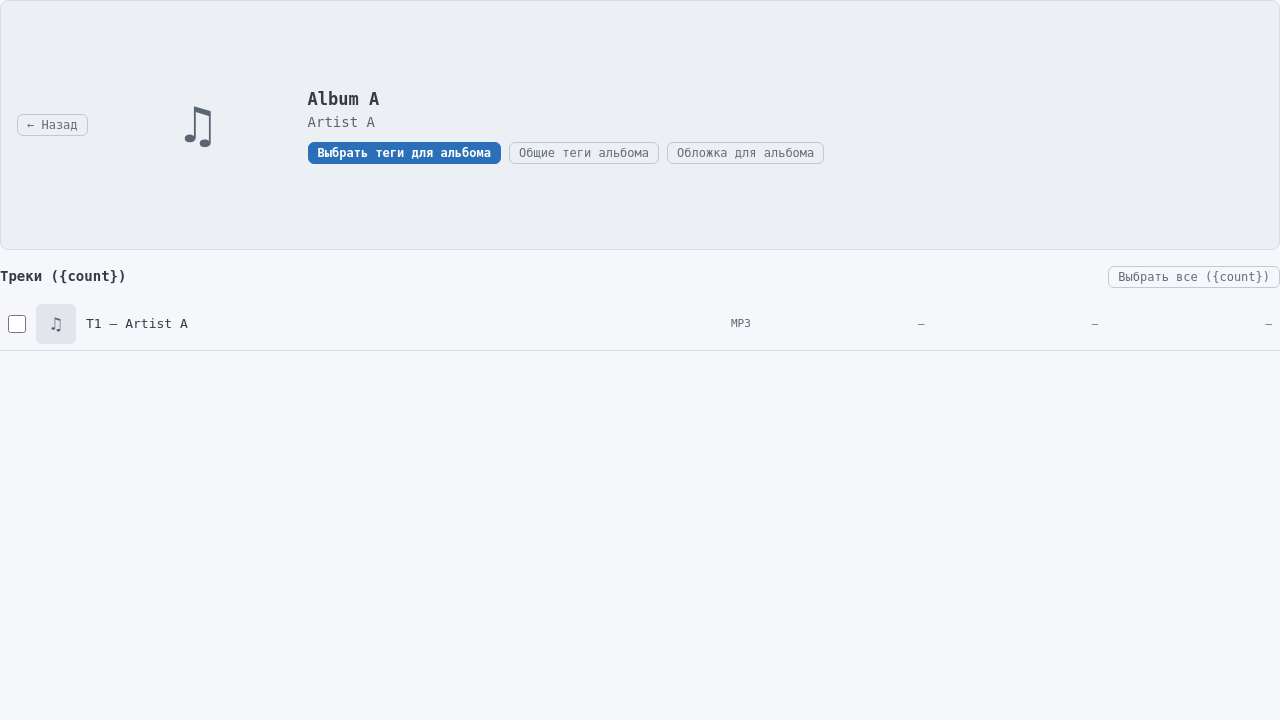
Scenario: AlbumsTab: деталь локального альбома › показывает последней плитку для загрузки обложки
Click the button "Обложка для альбома" at (746, 153), box [667,142,824,164]
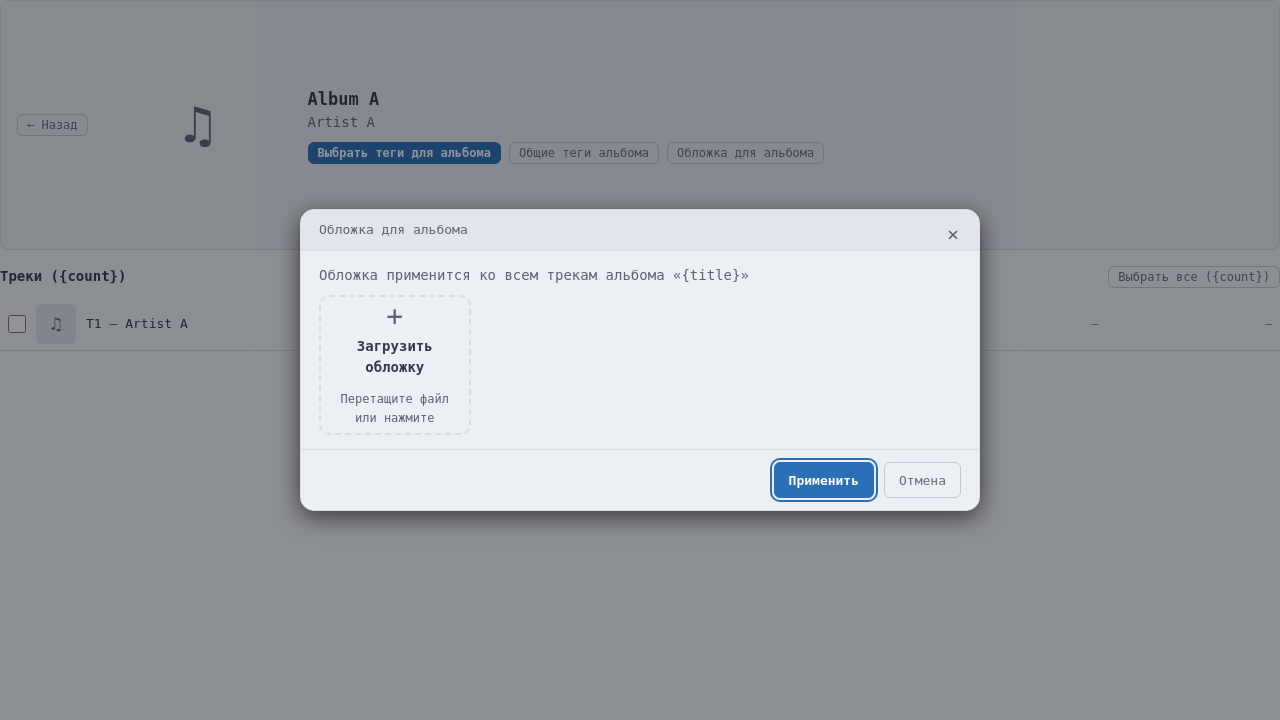
Check: the text "Перетащите файл или нажмите" is shown, box [341,392,449,425]
